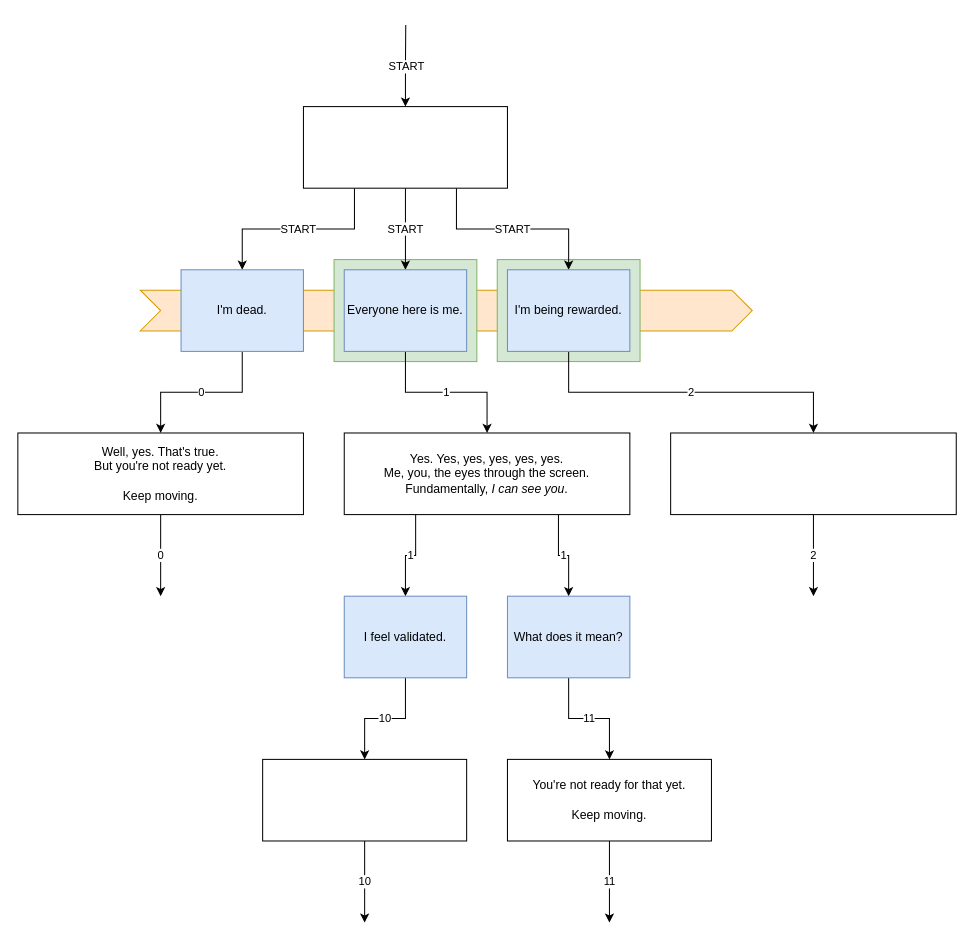
This 974x949 diagram has some shape labels left out. The shapes that lost their labels are listed below. From the top down, each one's box as (x1, y1, x2, y2) in pixels, then its label:
(302, 106, 507, 188): Do you understand yet?
(139, 289, 752, 331): Save choice
(670, 432, 956, 515): Not rewarded, seen. You're getting close. Keep moving.
(262, 758, 467, 841): Good. I'm so glad.
